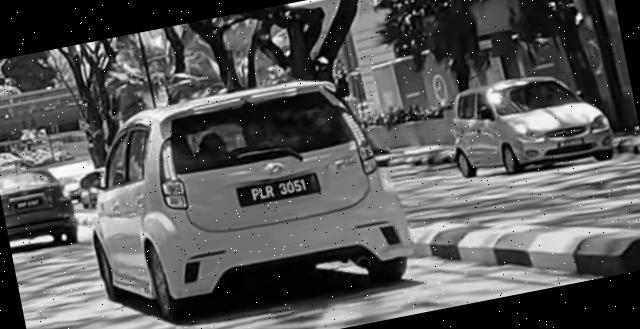License_Plate: (235, 171, 322, 209)
car: (68, 60, 420, 329), (442, 62, 619, 189)
